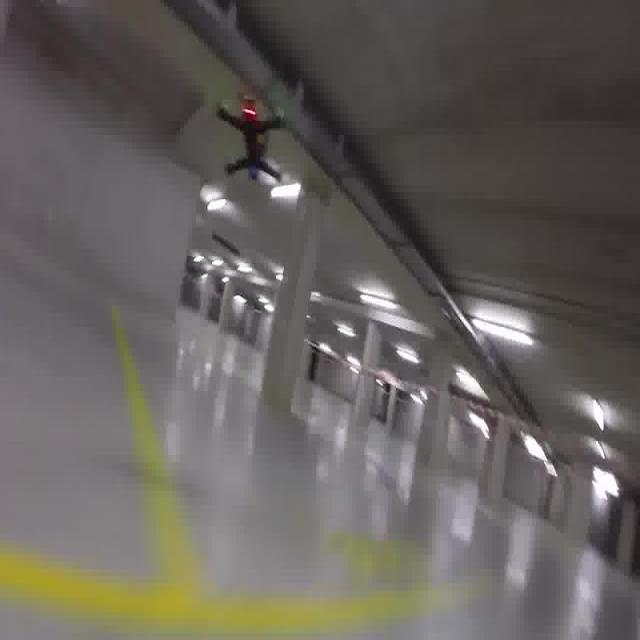drone: (215, 85, 287, 193)
